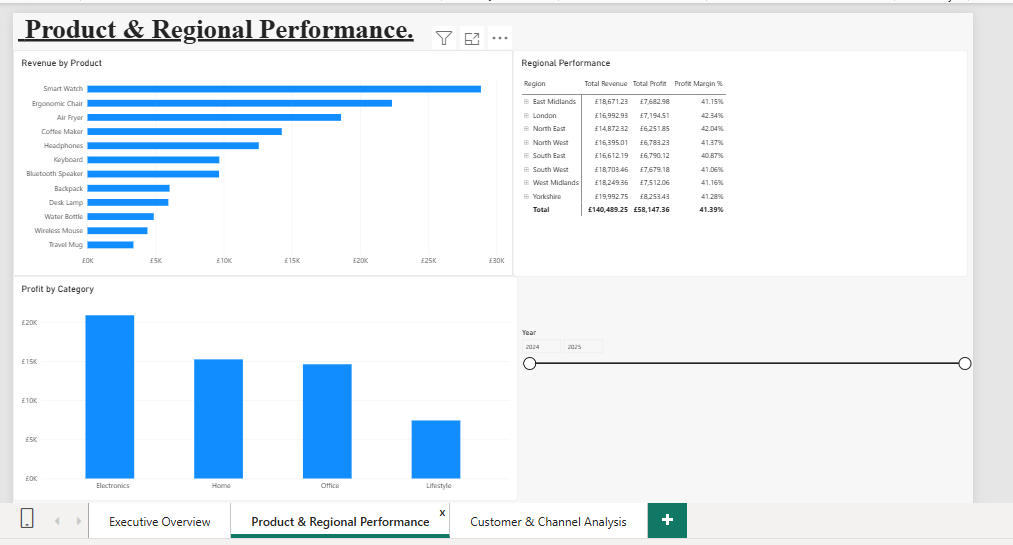

The page's visual inventory and layout, read from the dashboard file:
{"tool":"powerbi","page":{"name":"Product & Regional Performance","canvas":[1920,1080],"ordinal":1},"visuals":[{"type":"textbox","box":[10,0,1036,74],"z":0},{"type":"clusteredBarChart","title":"Revenue by Product","fields":{"Category":["Sales_Data.Product"],"Y":["Sales_Data.Total Revenue"]},"box":[0,74,1000,452.5],"z":1},{"type":"clusteredColumnChart","title":"Profit by Category","fields":{"Category":["Sales_Data.Category"],"Y":["Sales_Data.Total Profit"]},"box":[0,526,1010,450],"z":2},{"type":"pivotTable","title":"Regional Performance","fields":{"Rows":["Sales_Data.Region","Sales_Data.City"],"Values":["Sales_Data.Total Revenue","Sales_Data.Total Profit","Sales_Data.Profit Margin 1"]},"box":[1000,74,910,452.5],"z":3},{"type":"slicer","fields":{"Values":["Sales_Data.Year"]},"box":[1010,630,910,450],"z":4}]}

Visuals, with their boxes on the page's 1920x1080 design canvas (x1, y1, x2, y2). These are canvas units, not pixel positions in the 1013x545 screenshot, which may show the page scaled, cropped or inside an application window:
textbox: 10/0/1046/74
"Revenue by Product" clusteredBarChart: 0/74/1000/526
"Profit by Category" clusteredColumnChart: 0/526/1010/976
"Regional Performance" pivotTable: 1000/74/1910/526
slicer - Sales_Data.Year: 1010/630/1920/1080
